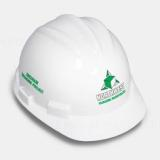Helmet: (13, 13, 148, 143)
